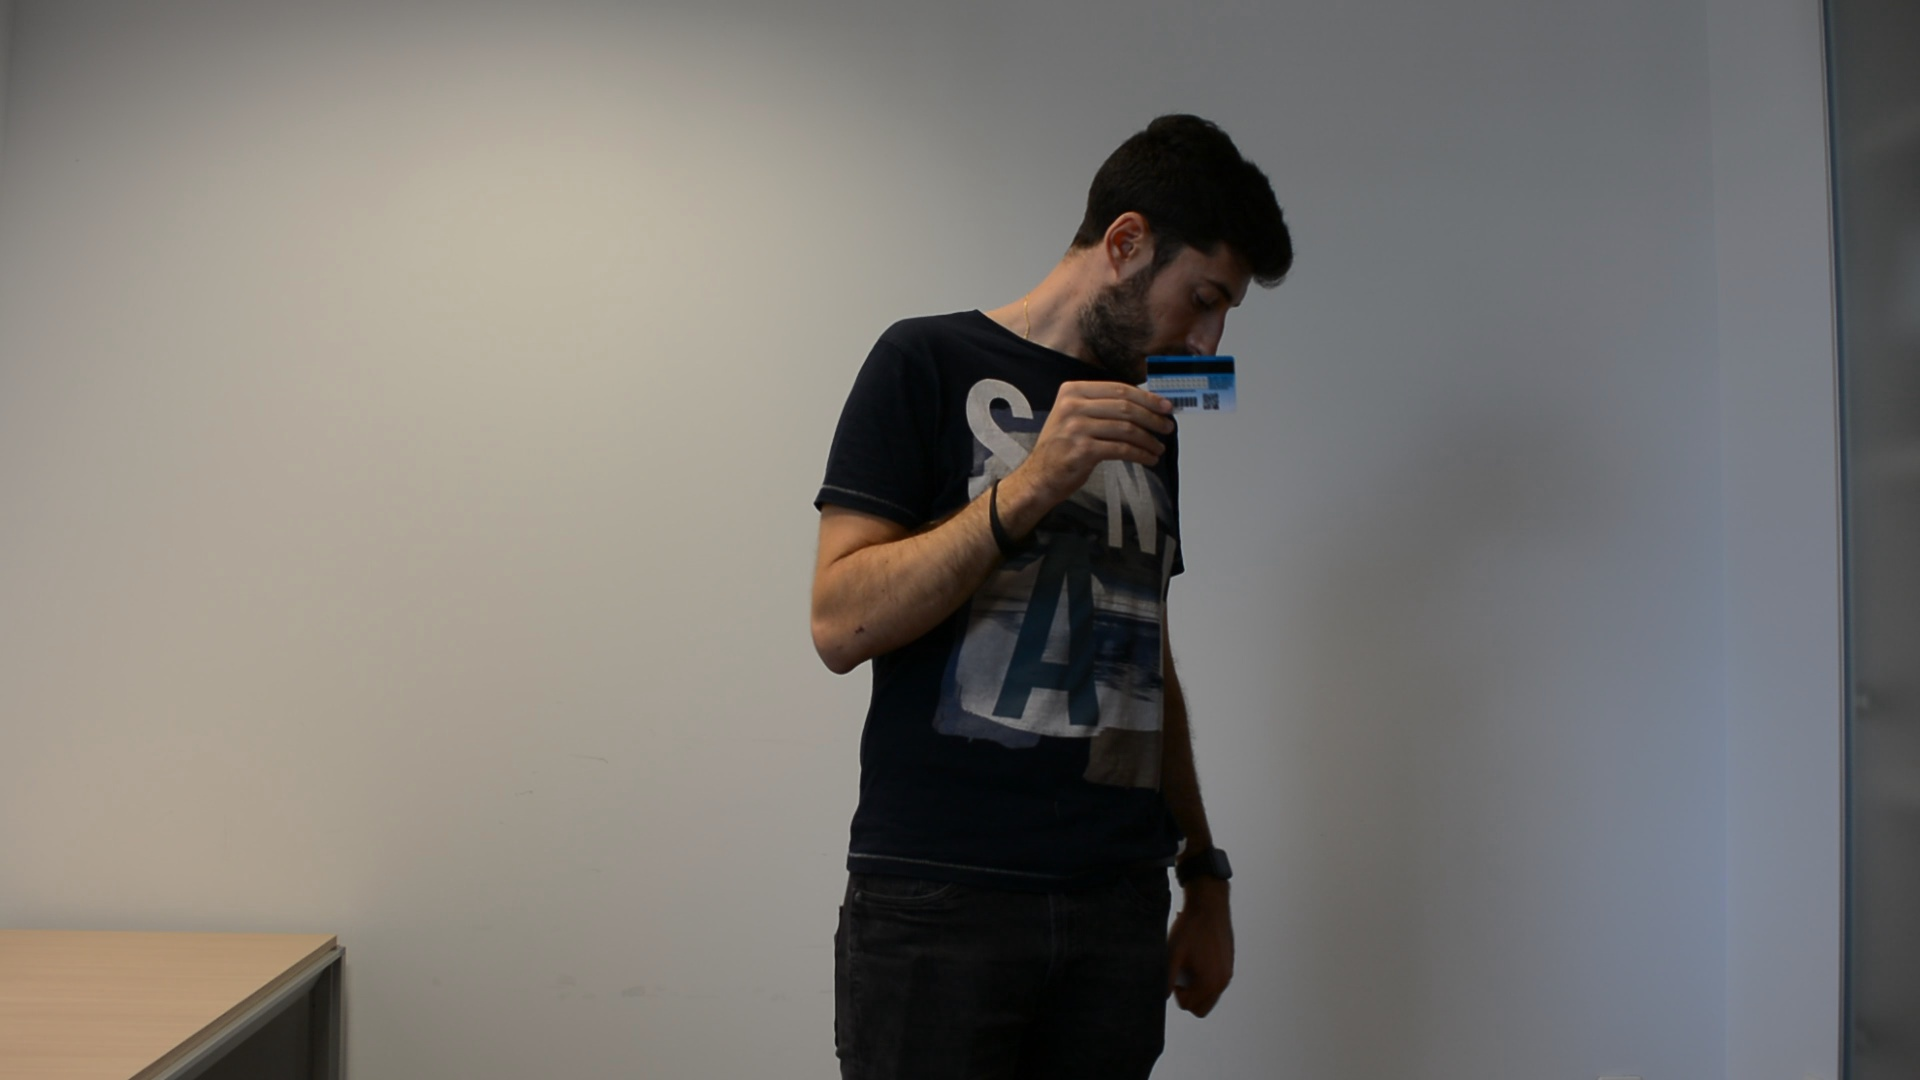tarjeta: (1143, 352, 1240, 414)
